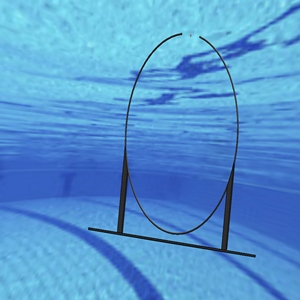circle: (88, 30, 258, 256)
